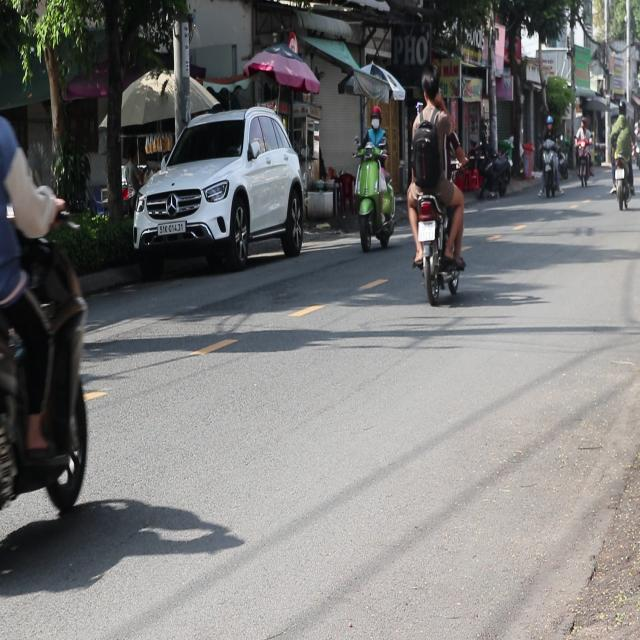helmet: (369, 105, 381, 128)
licenseplate: (405, 62, 467, 304), (353, 104, 396, 251)
motorcyclist: (420, 64, 441, 106)
nohelmet: (417, 220, 435, 240)
